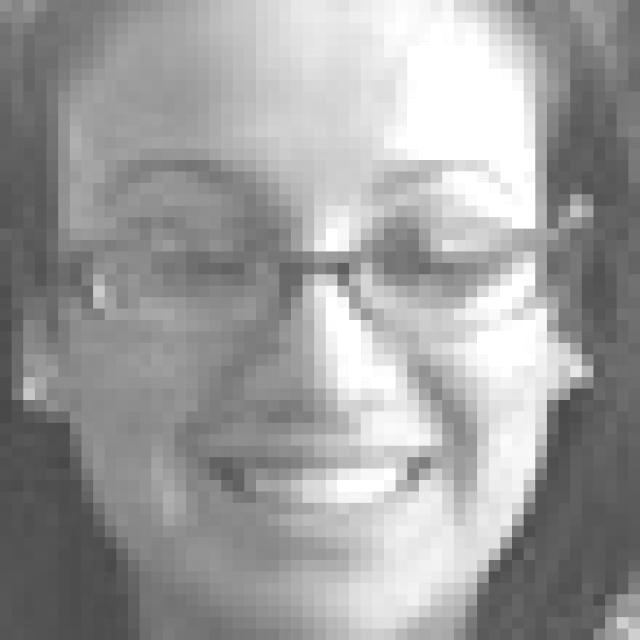real: (43, 14, 561, 628), (112, 172, 530, 338)
